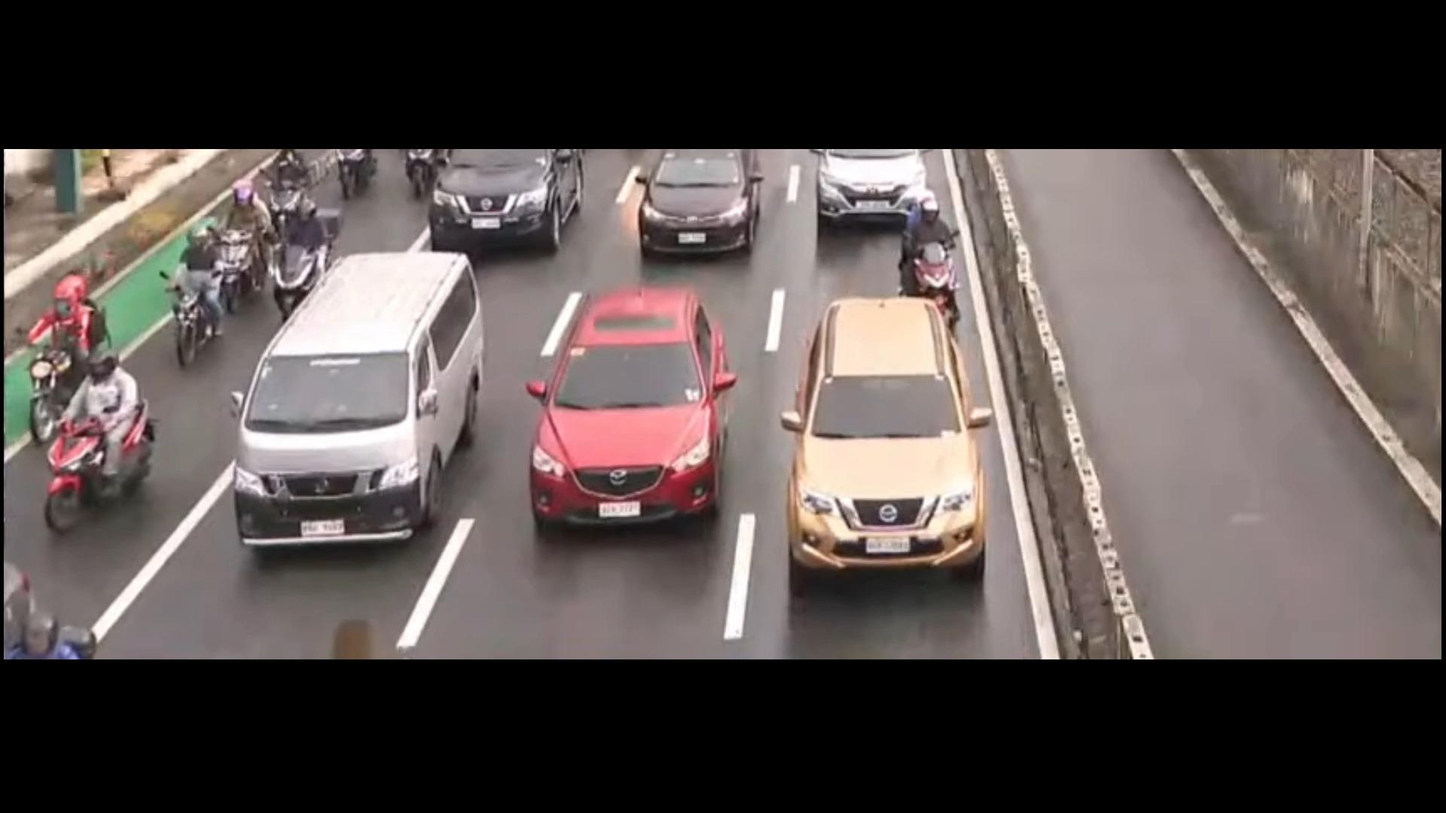Motorcycle: (36, 356, 177, 533), (19, 254, 117, 437), (890, 181, 979, 318), (151, 215, 244, 345), (213, 170, 283, 297), (281, 190, 352, 313), (399, 136, 448, 205), (329, 136, 373, 209)
SUV: (510, 273, 752, 560), (781, 296, 985, 589)
Van: (221, 232, 516, 574)
